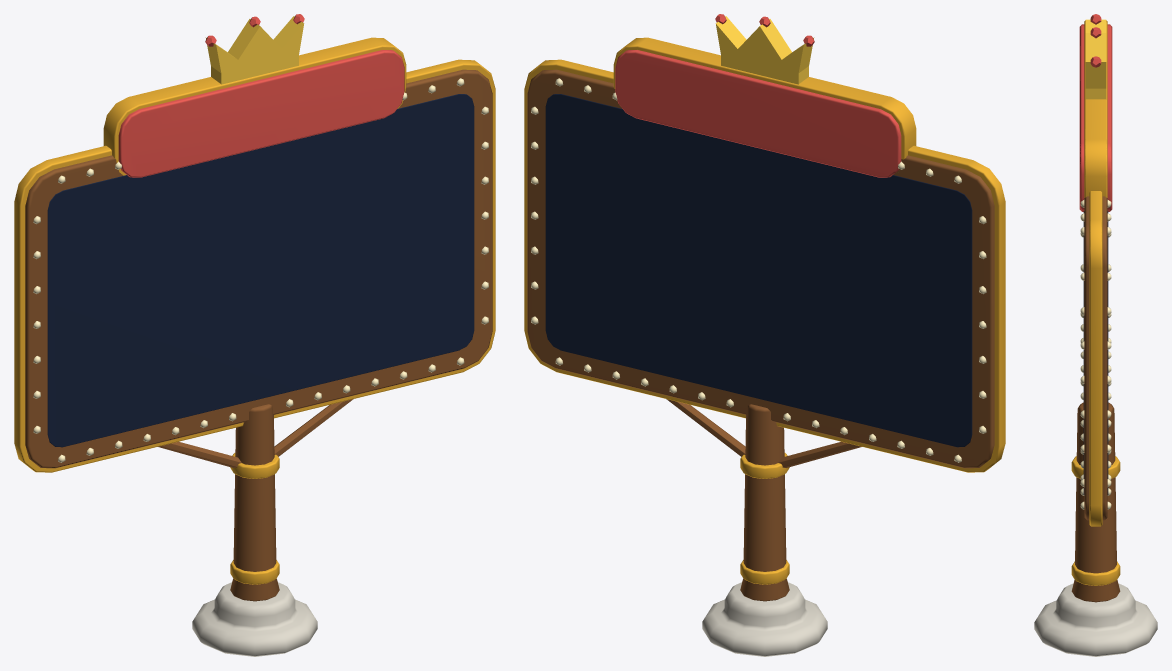
Rendered from ZooKit_Board_v2.glb.
3 views of the same model, side by side, from view 1: azimuth 30°, elevation 25°; view 2: azimuth 150°, elevation 25°; view 3: azimuth 270°, elevation 25° (orthographic).
Visible parts, largest first — view 1: Leaderboard__screen, Leaderboard__wood, Leaderboard__red, Leaderboard__gold, Leaderboard__stone, Leaderboard__yellow, Leaderboard__bulb; view 2: Leaderboard__screen, Leaderboard__wood, Leaderboard__red, Leaderboard__gold, Leaderboard__stone, Leaderboard__yellow, Leaderboard__bulb; view 3: Leaderboard__gold, Leaderboard__wood, Leaderboard__stone, Leaderboard__red, Leaderboard__yellow, Leaderboard__bulb, Leaderboard__screen.
Boxes of the visible parts, x1,y1,x2,y2 form: Leaderboard__screen: [47, 94, 474, 447]; Leaderboard__wood: [25, 69, 492, 601]; Leaderboard__red: [118, 14, 404, 177]; Leaderboard__gold: [14, 37, 495, 584]; Leaderboard__stone: [192, 582, 317, 656]; Leaderboard__yellow: [205, 16, 304, 84]; Leaderboard__bulb: [33, 78, 488, 462]; Leaderboard__screen: [545, 94, 972, 447]; Leaderboard__wood: [527, 69, 994, 601]; Leaderboard__red: [615, 14, 901, 177]; Leaderboard__gold: [524, 37, 1005, 584]; Leaderboard__stone: [702, 582, 827, 656]; Leaderboard__yellow: [715, 16, 814, 84]; Leaderboard__bulb: [531, 78, 986, 462]; Leaderboard__gold: [1071, 20, 1120, 585]; Leaderboard__wood: [1071, 196, 1120, 602]; Leaderboard__stone: [1034, 583, 1157, 656]; Leaderboard__red: [1079, 14, 1112, 211]; Leaderboard__yellow: [1085, 19, 1106, 99]; Leaderboard__bulb: [1080, 200, 1111, 509]; Leaderboard__screen: [1083, 211, 1108, 494].
Bounding box in the file's own units: 36.8 × 45.32 × 8.4.
